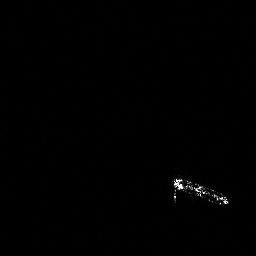ship: (168, 171, 232, 209)
